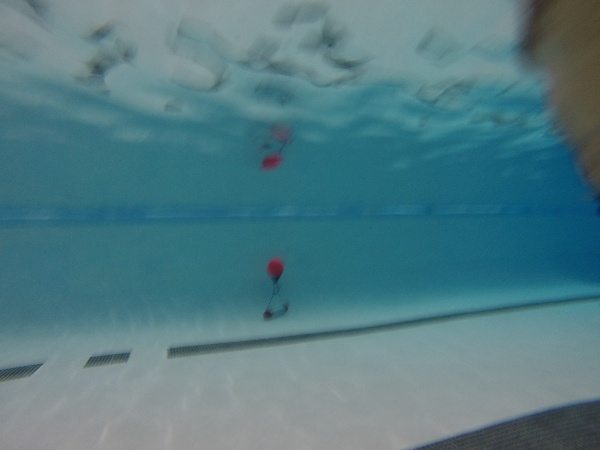buoy_red: (262, 258, 288, 286)
